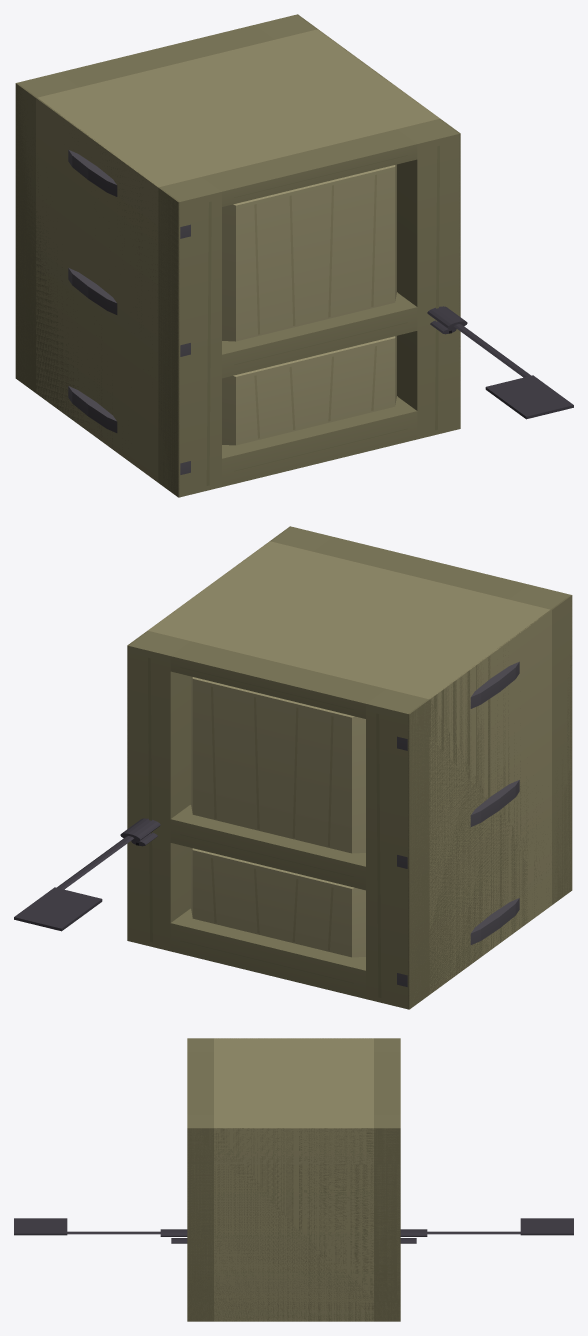
Rendered from door_leaf_mid.glb.
The picture shows the model from 3 angles, top to bottom: view 1: azimuth 30°, elevation 25°; view 2: azimuth 150°, elevation 25°; view 3: azimuth 270°, elevation 25°; orthographic projection. The views are drawn at different scales.
Parts seen in each view (by area): view 1: door_leaf_mid; view 2: door_leaf_mid; view 3: door_leaf_mid.
Part boxes in pixels (left/top/right/bottom): door_leaf_mid: left=15, top=14, right=573, bottom=497; door_leaf_mid: left=14, top=526, right=572, bottom=1009; door_leaf_mid: left=14, top=1038, right=573, bottom=1321.
Bounding box in the file's own units: 1.03 × 1 × 2.62.
